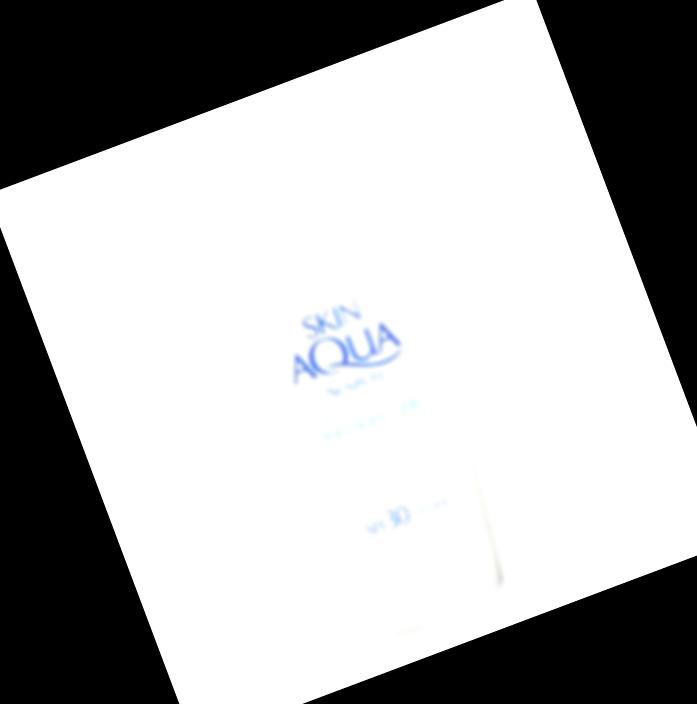cosmetic: (185, 108, 517, 635)
